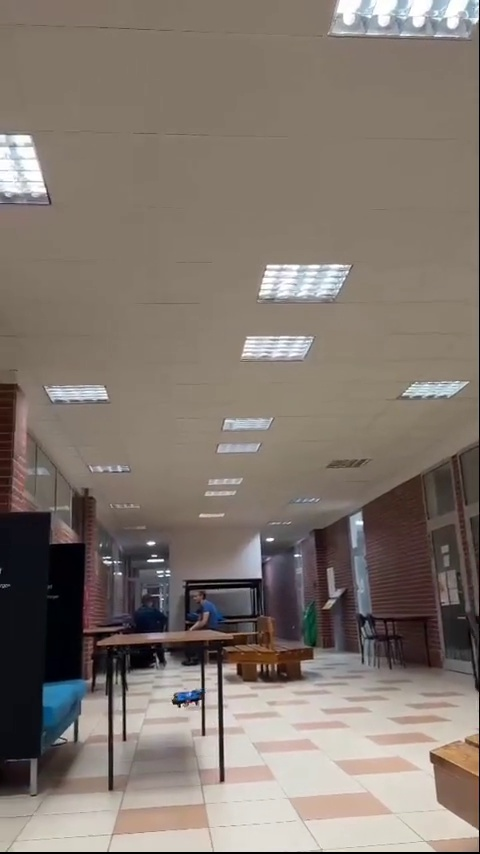drone: (172, 690, 203, 709)
no vest: (189, 592, 226, 637), (137, 592, 163, 634)
